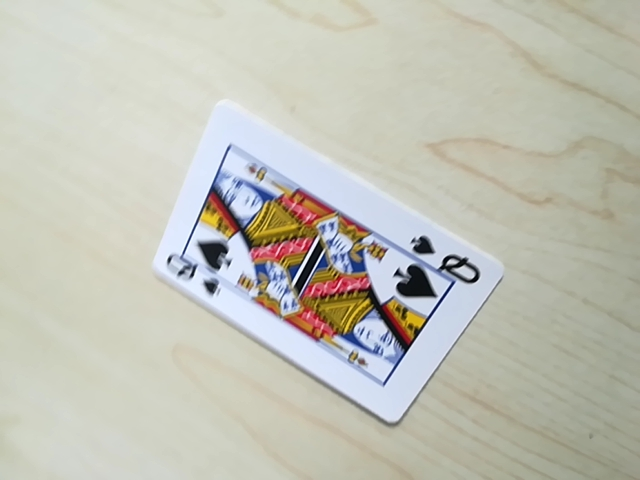ht q: (400, 237, 483, 280), (161, 246, 225, 298)
